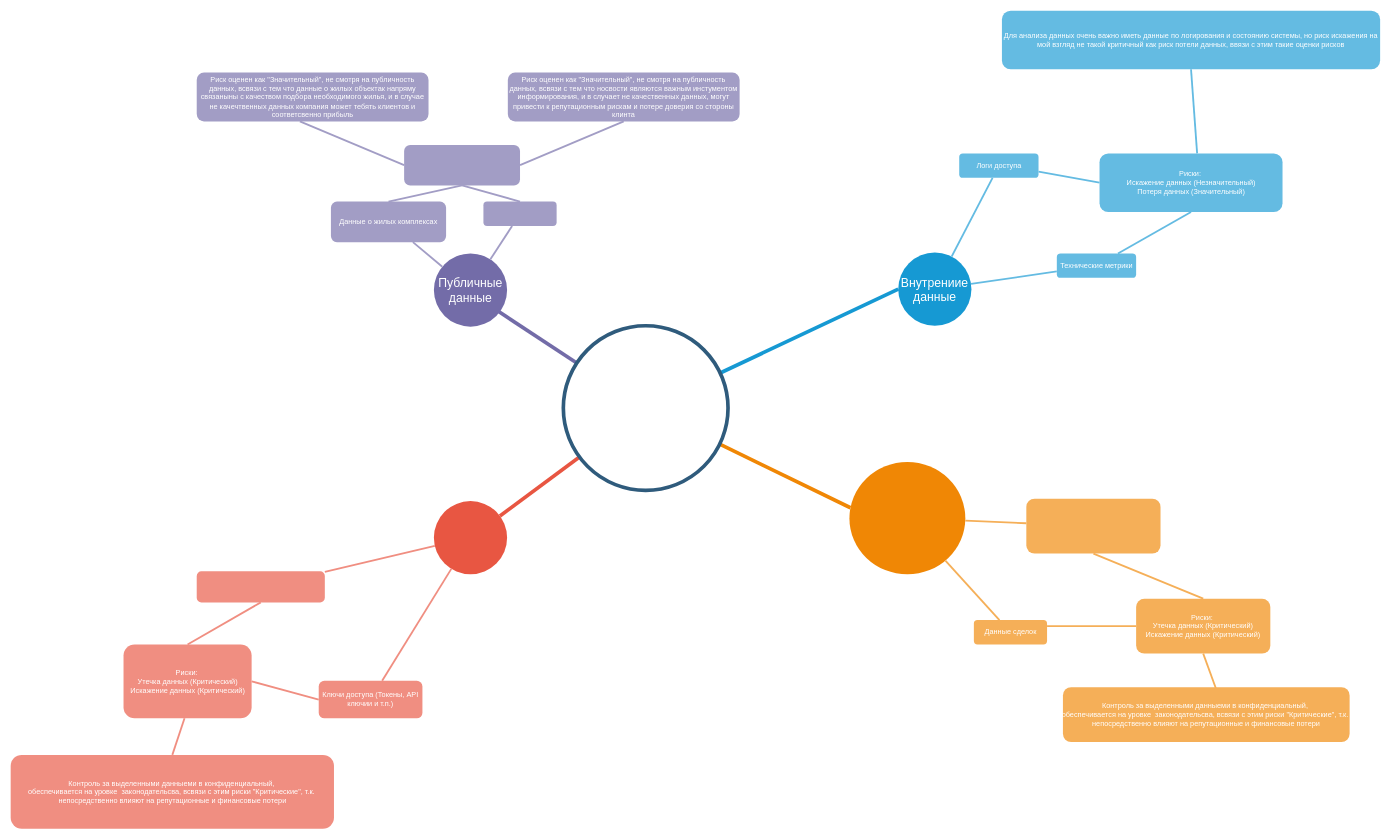
Some shapes in this 1390 by 839 pixel diagram are drawn without their labels. The centre of each missing label's shape, as x and y in pixels:
"Безопасность данных" goes at point (645, 408).
"Конфиденциальные данные" goes at point (907, 518).
"Новости УК" goes at point (519, 213).
"Персональные данные клиентов" goes at point (1093, 525).
"Риск: Некачественные данные (Значительный)" goes at point (462, 165).
"Секретные данные" goes at point (470, 537).
"Учетные данные администраторов" goes at point (260, 586).
